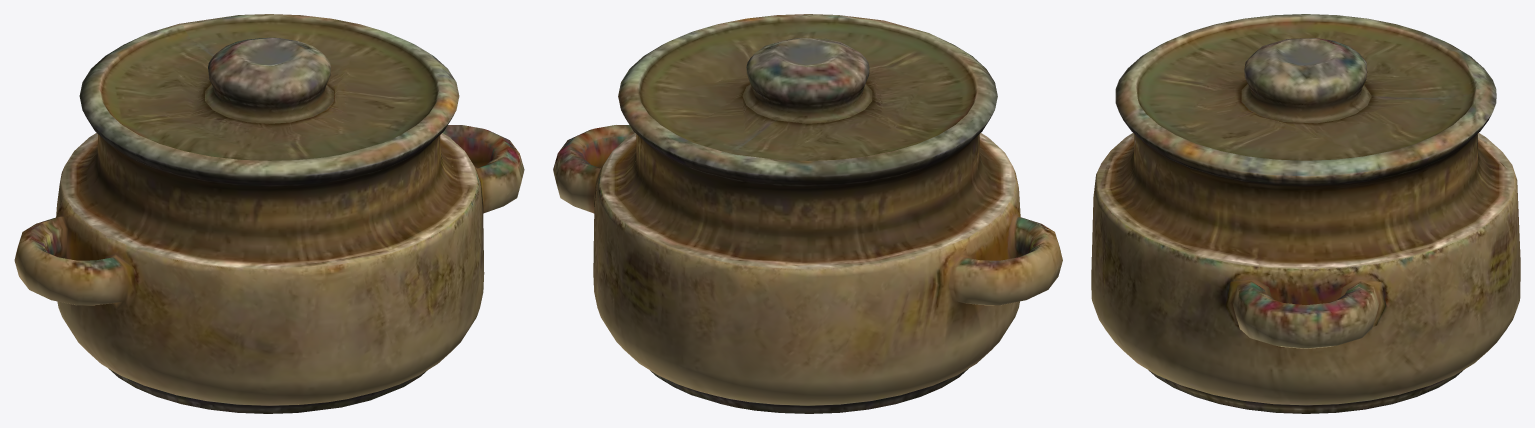
The model's file is ph-ceramic_pot.glb.
3 renders of one model, left to right at view 1: azimuth 30°, elevation 25°; view 2: azimuth 150°, elevation 25°; view 3: azimuth 270°, elevation 25°, orthographic.
Parts seen in each view (by area): view 1: ceramic_pot; view 2: ceramic_pot; view 3: ceramic_pot.
Boxes of the visible parts, x1,y1,x2,y2 form: ceramic_pot: [14, 14, 524, 413]; ceramic_pot: [553, 14, 1062, 413]; ceramic_pot: [1091, 14, 1520, 413].
Bounding box in the file's own units: 0.6563 × 0.3717 × 0.5005.
Materials: 1 (1 with a texture image).
